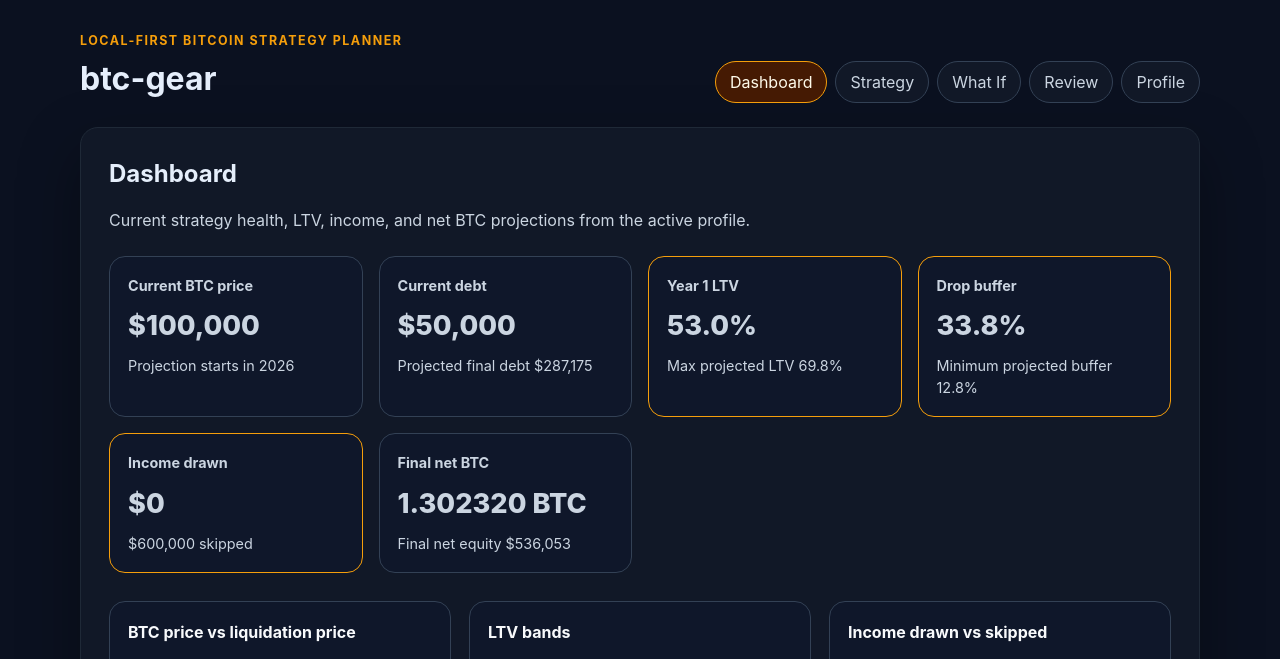
it: App navigation › uses injected scenario store while What If sandbox edits leave Dashboard live config unchanged
Click the button "What If". click: (979, 82)
box: x1=937 y1=61 x2=1021 y2=103
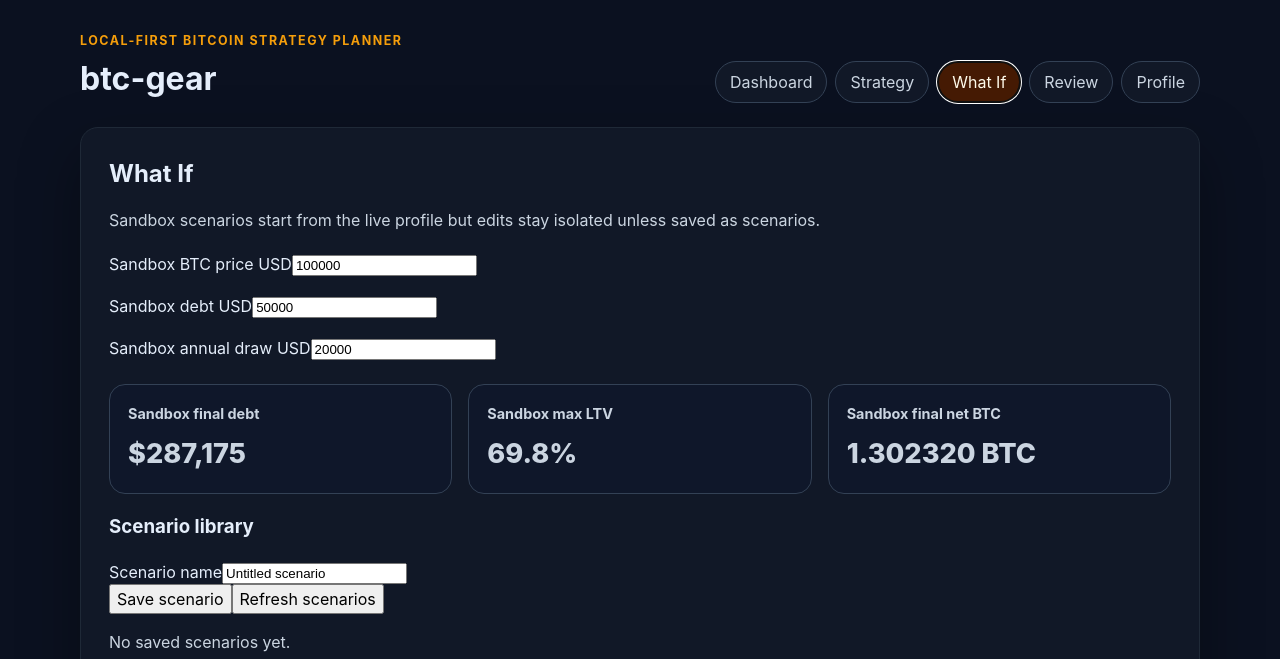
Replace the text in the number field labelled "Sandbox debt USD" with "135000". click: (345, 307)
box: x1=252 y1=297 x2=437 y2=318
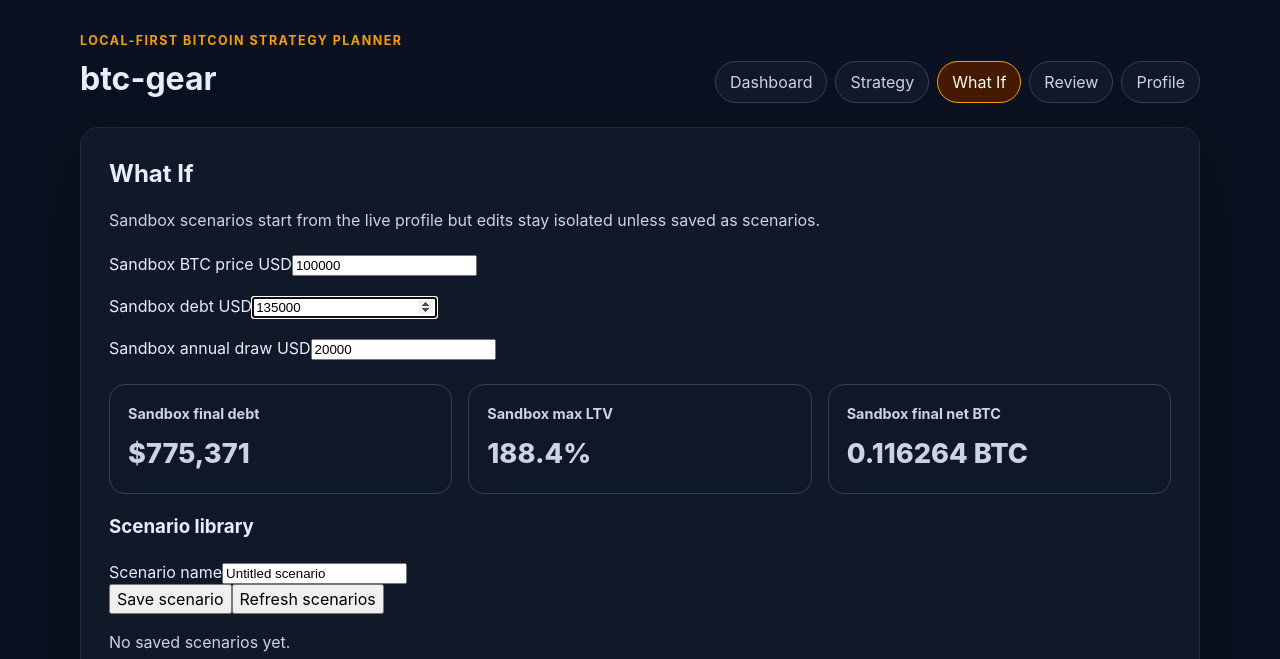
Replace the text in the field labelled "Scenario name" with "App sandbox". click: (315, 573)
box: x1=222 y1=563 x2=407 y2=584
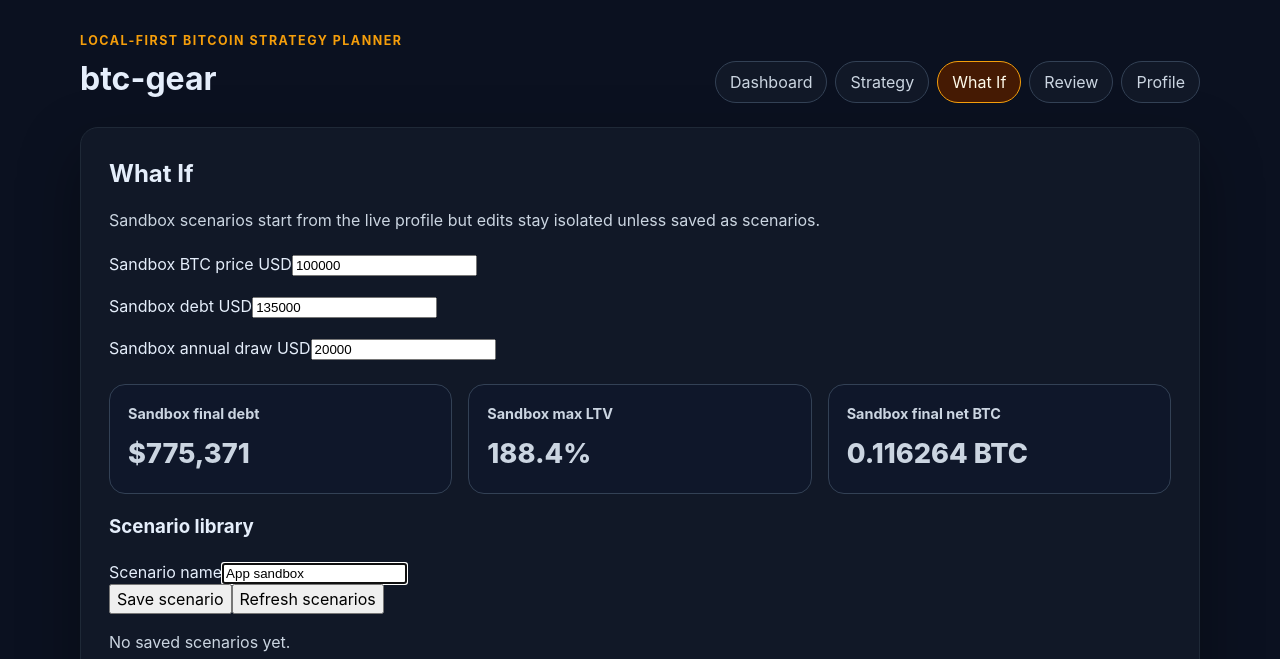
Click the button "Save scenario". click: (170, 599)
box: x1=109 y1=584 x2=232 y2=614
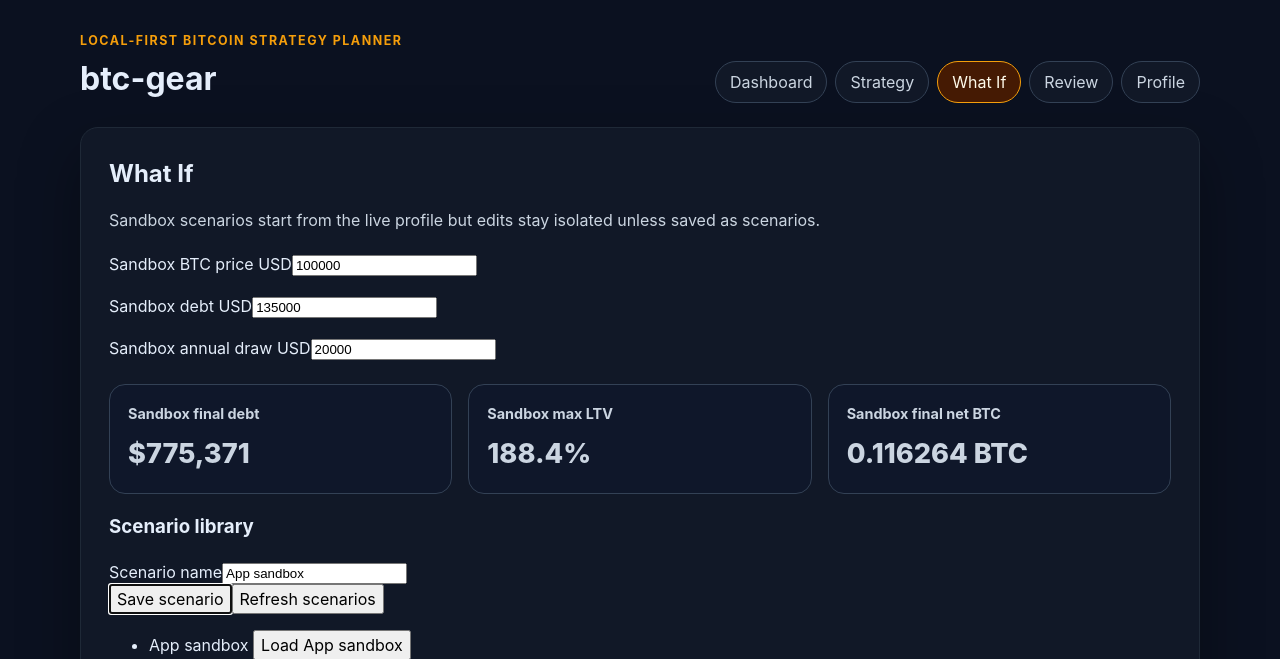
Click the button "Dashboard". click: (771, 82)
box: x1=715 y1=61 x2=827 y2=103
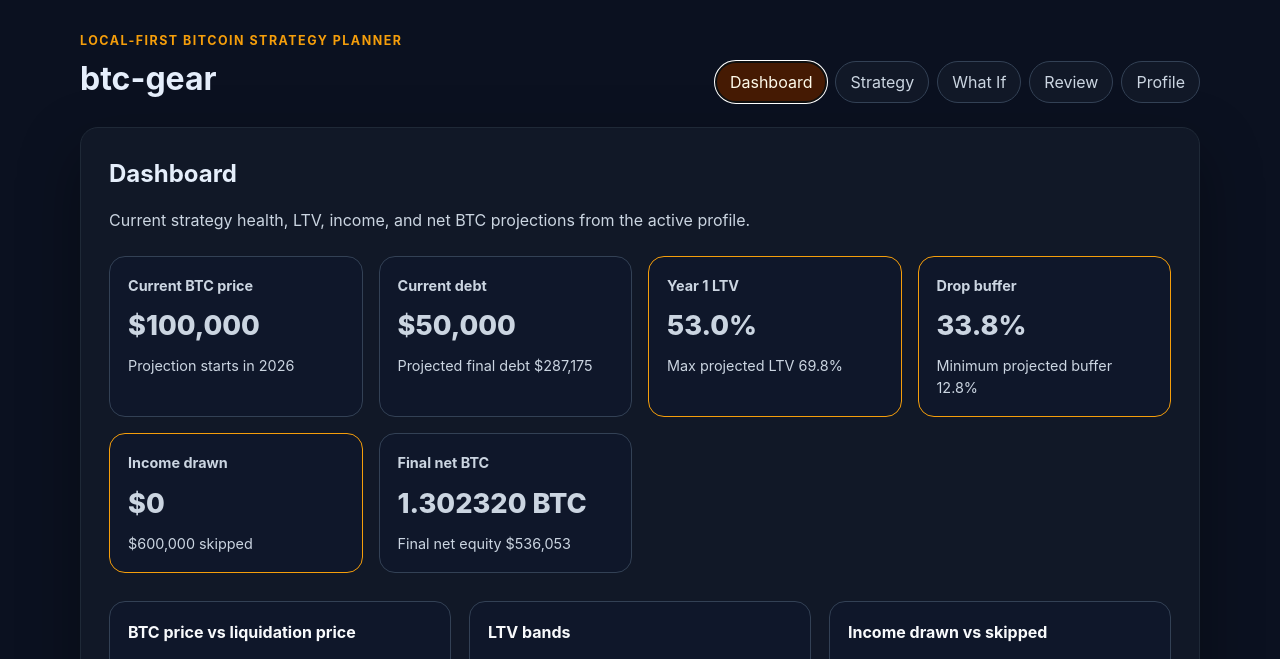
Check: the element labelled "Current debt" shows "$50,000", box x1=398 y1=309 x2=516 y2=342
